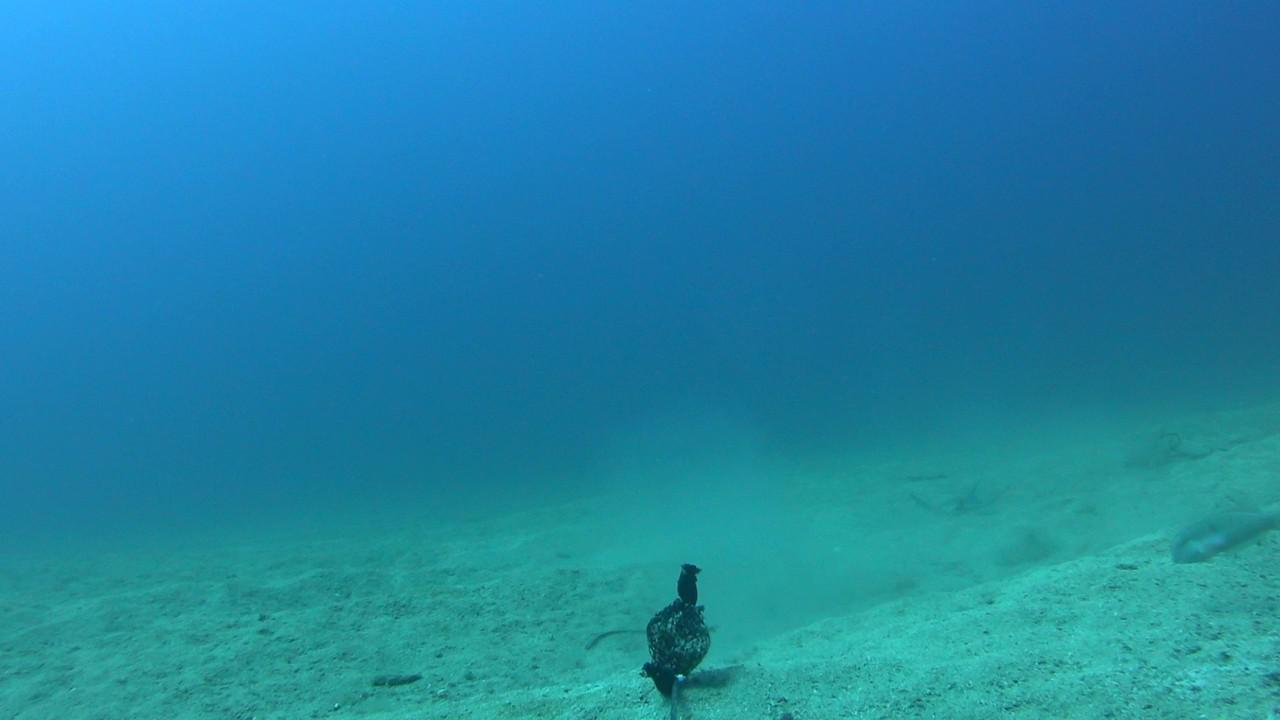myliobatis: (896, 474, 1047, 548)
